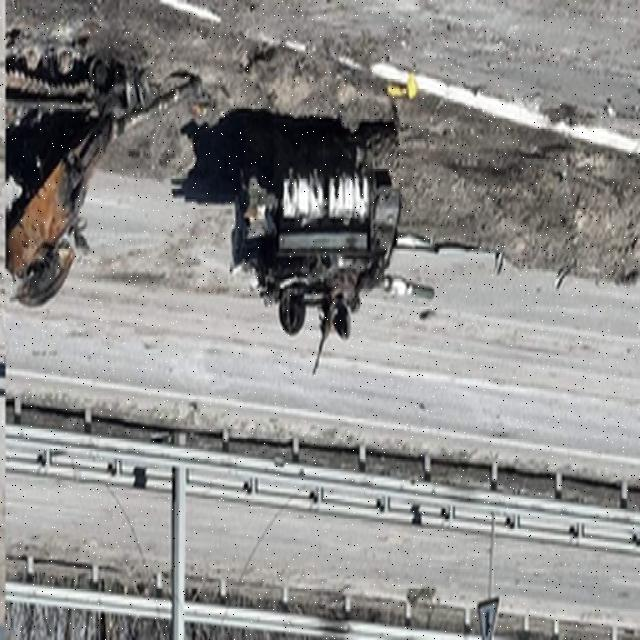TANK: (230, 102, 439, 338)
